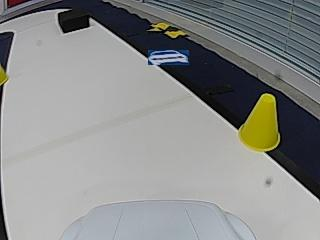block: (57, 9, 90, 34)
cone: (238, 93, 280, 151)
